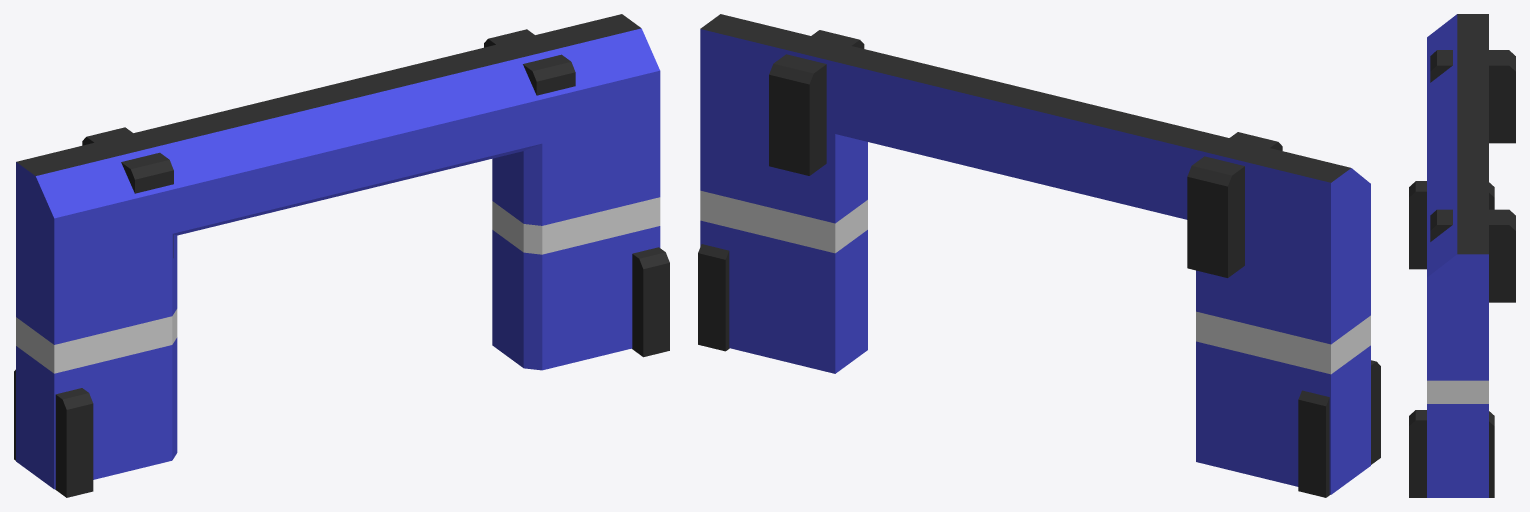
File: facilityGate.fbx
3 renders of one model, left to right at view 1: azimuth 30°, elevation 25°; view 2: azimuth 150°, elevation 25°; view 3: azimuth 270°, elevation 25°, orthographic. The views are drawn at different scales.
Parts seen in each view (by area): view 1: Cube.186; view 2: Cube.186; view 3: Cube.186.
Boxes of the visible parts, left/top/right/bottom form: Cube.186: left=14, top=14, right=669, bottom=497; Cube.186: left=698, top=14, right=1380, bottom=497; Cube.186: left=1409, top=14, right=1515, bottom=497.
Size of the model in its own units: 612 by 290 by 115.
